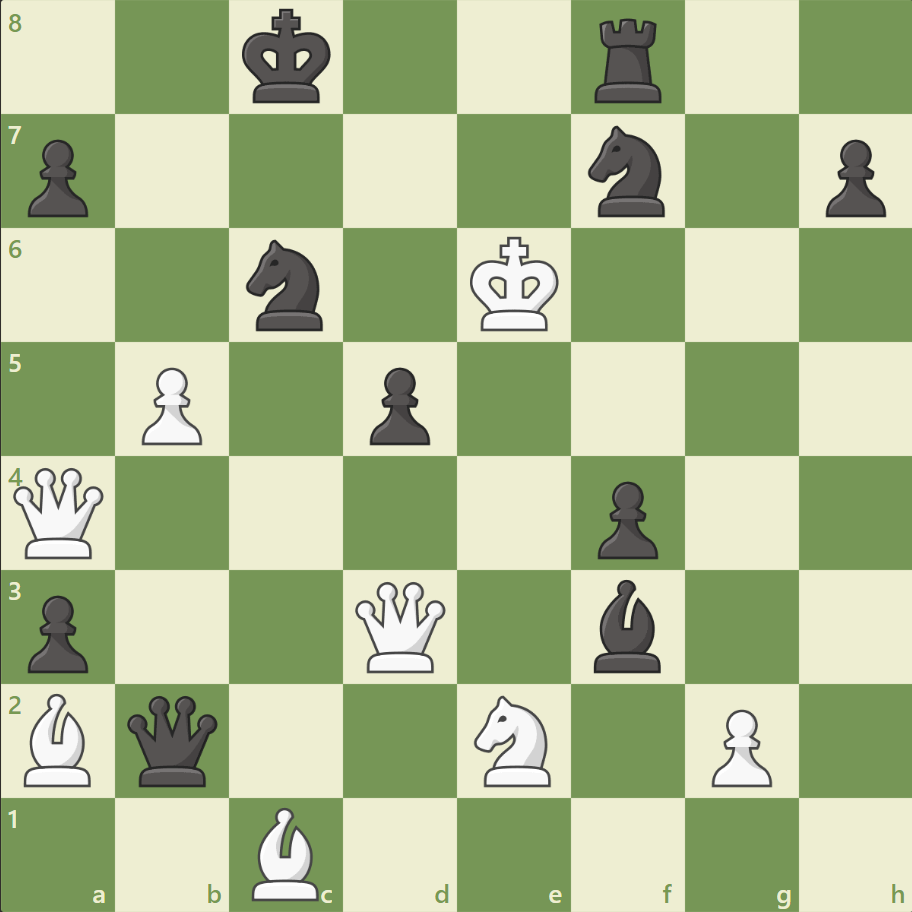B: (17, 687, 101, 790), (244, 801, 328, 904)
K: (465, 231, 565, 339)
N: (465, 688, 562, 791)
P: (133, 359, 208, 450), (701, 700, 776, 791)
Q: (351, 576, 450, 676), (10, 463, 109, 562)
b: (585, 574, 669, 676)
k: (238, 4, 338, 112)
n: (238, 234, 335, 337), (579, 121, 676, 223)
p: (20, 132, 95, 223), (20, 586, 95, 677), (815, 132, 889, 223), (361, 359, 435, 450), (588, 473, 662, 564)
q: (124, 690, 223, 789)
r: (587, 12, 670, 109)
